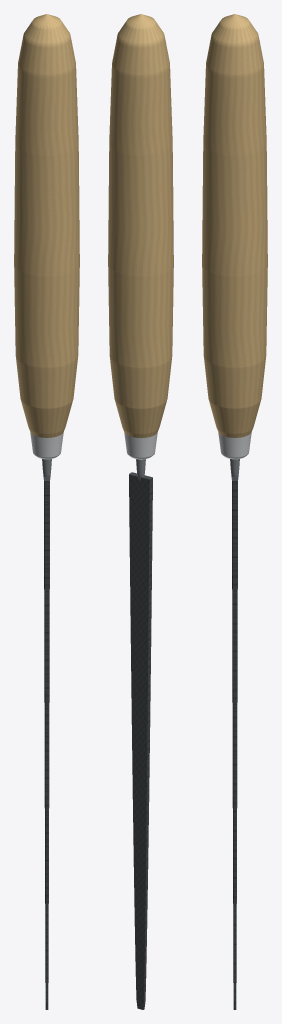
File: lima.glb
The picture shows the model from 3 angles, left to right: view 1: azimuth 90°, elevation 25°; view 2: azimuth 150°, elevation 25°; view 3: azimuth 270°, elevation 25°; orthographic projection.
Visible parts, largest first — view 1: Manico, Lama, Ghiera; view 2: Manico, Lama, Ghiera; view 3: Manico, Lama, Ghiera.
Part boxes in pixels (x1,y1,x2,y2): Manico: [14, 14, 79, 437]; Lama: [44, 477, 49, 1009]; Ghiera: [30, 432, 63, 459]; Manico: [108, 14, 173, 437]; Lama: [129, 472, 152, 1009]; Ghiera: [124, 433, 157, 459]; Manico: [202, 14, 267, 437]; Lama: [232, 477, 237, 1009]; Ghiera: [218, 432, 251, 459].
Bounding box in the file's own units: 0.0084 × 0.14 × 0.0084.
Materials: 4 (2 with a texture image).
